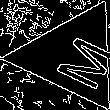M_NW: (34, 24, 110, 88)
